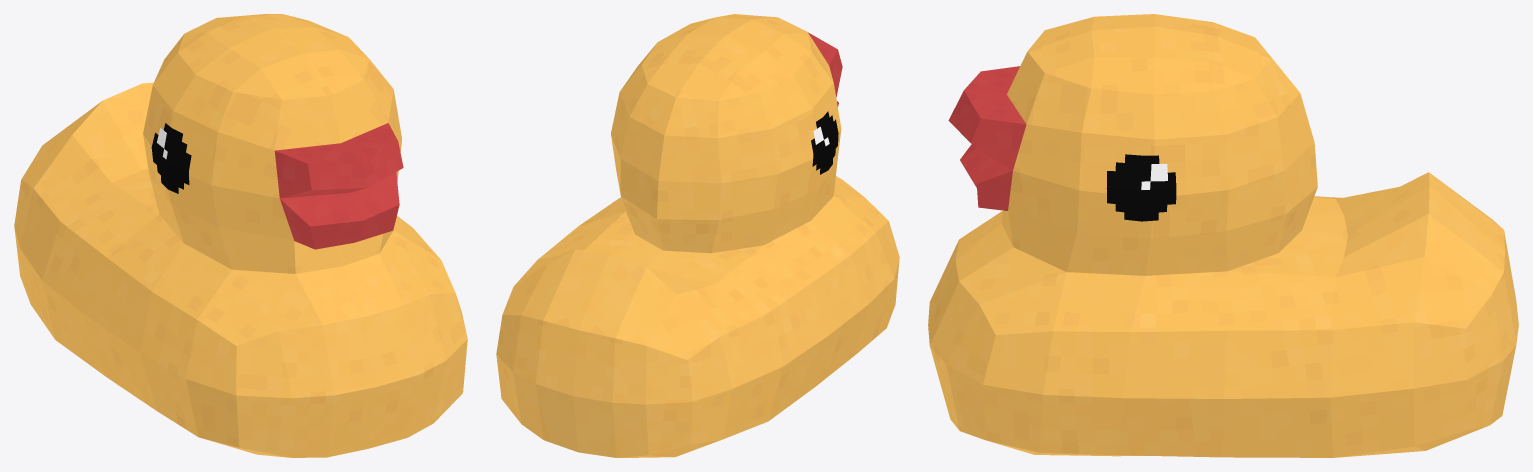
File: rubberDuck1.glb
The picture shows the model from 3 angles, left to right: view 1: azimuth 30°, elevation 25°; view 2: azimuth 150°, elevation 25°; view 3: azimuth 270°, elevation 25°; orthographic projection. The views are drawn at different scales.
Visible parts, largest first — view 1: rubberDuck, eyes; view 2: rubberDuck, eyes; view 3: rubberDuck, eyes.
Boxes of the visible parts, x1,y1,x2,y2 form: rubberDuck: (14,14,467,457); eyes: (151,123,191,193); rubberDuck: (496,14,899,457); eyes: (811,111,838,174); rubberDuck: (928,14,1518,457); eyes: (1106,154,1176,221).
Size of the model in its own units: 0.3681 by 0.4389 by 0.591.
Materials: 3 (3 with a texture image).
